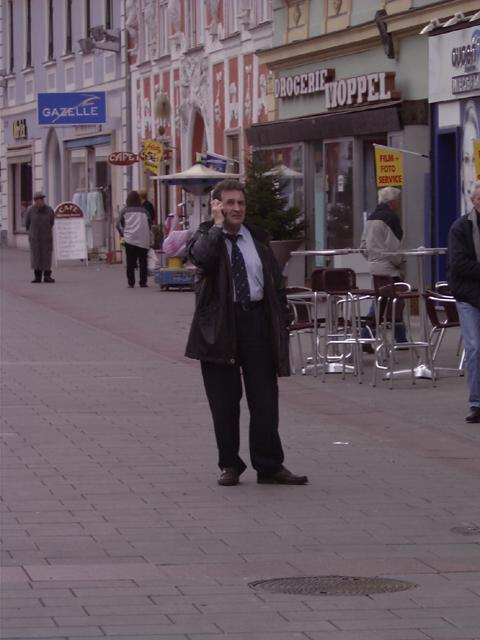Person: (184, 181, 313, 490), (443, 180, 480, 423), (361, 186, 415, 288), (117, 188, 156, 289), (21, 187, 56, 281)
